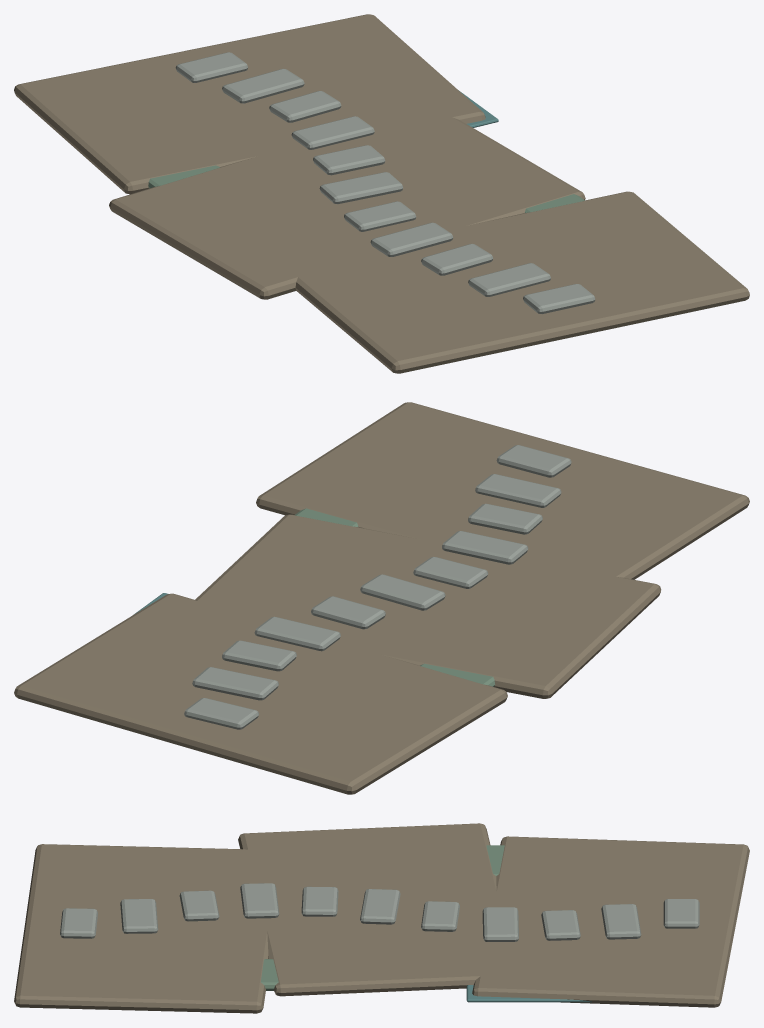
Rendered from env_qinglan_path_set_a.glb.
The picture shows the model from 3 angles, top to bottom: view 1: azimuth 30°, elevation 25°; view 2: azimuth 150°, elevation 25°; view 3: azimuth 270°, elevation 25°; orthographic projection. The views are drawn at different scales.
Visible parts, largest first — view 1: qinglan_path_segment_2, qinglan_path_segment_0, qinglan_path_segment_1, qinglan_step_5, qinglan_step_7, qinglan_step_1, qinglan_step_9, qinglan_step_3, qinglan_step_4, qinglan_step_10, qinglan_step_2, qinglan_step_8 (+2 smaller); view 2: qinglan_path_segment_0, qinglan_path_segment_2, qinglan_path_segment_1, qinglan_step_1, qinglan_step_7, qinglan_step_5, qinglan_step_3, qinglan_step_9, qinglan_step_10, qinglan_step_2, qinglan_step_4, qinglan_step_8 (+2 smaller); view 3: qinglan_path_segment_0, qinglan_path_segment_2, qinglan_path_segment_1, qinglan_step_7, qinglan_step_1, qinglan_step_5, qinglan_step_9, qinglan_step_3, qinglan_step_10, qinglan_step_2, qinglan_step_4, qinglan_step_8 (+5 smaller).
Part boxes in pixels (x1,y1,x2,y2): qinglan_path_segment_2: (284,191,749,373); qinglan_path_segment_0: (14,14,485,194); qinglan_path_segment_1: (109,104,585,299); qinglan_step_5: (319,172,403,204); qinglan_step_7: (370,222,453,257); qinglan_step_1: (222,68,304,103); qinglan_step_9: (468,263,550,296); qinglan_step_3: (291,116,374,149); qinglan_step_4: (313,145,385,175); qinglan_step_10: (523,284,595,314); qinglan_step_2: (269,91,341,122); qinglan_step_8: (421,244,493,275); qinglan_path_segment_0: (14,593,507,794); qinglan_path_segment_2: (256,402,749,588); qinglan_path_segment_1: (186,514,661,698); qinglan_step_1: (192,667,278,700); qinglan_step_7: (442,531,528,564); qinglan_step_5: (360,574,445,610); qinglan_step_3: (254,616,340,651); qinglan_step_9: (475,474,561,507); qinglan_step_10: (496,445,571,477); qinglan_step_2: (222,640,296,671); qinglan_step_4: (311,596,385,629); qinglan_step_8: (468,503,542,534); qinglan_path_segment_0: (472,836,749,1007); qinglan_path_segment_2: (14,844,277,1013); qinglan_path_segment_1: (238,823,497,996); qinglan_step_7: (240,883,279,918); qinglan_step_1: (601,904,641,939); qinglan_step_5: (360,889,400,924); qinglan_step_9: (120,899,158,933); qinglan_step_3: (482,907,518,941); qinglan_step_10: (60,908,97,938); qinglan_step_2: (541,910,580,940); qinglan_step_4: (421,901,459,931); qinglan_step_8: (179,890,219,921).
Bounding box in the file's own units: 6.78 × 0.329 × 11.48.
